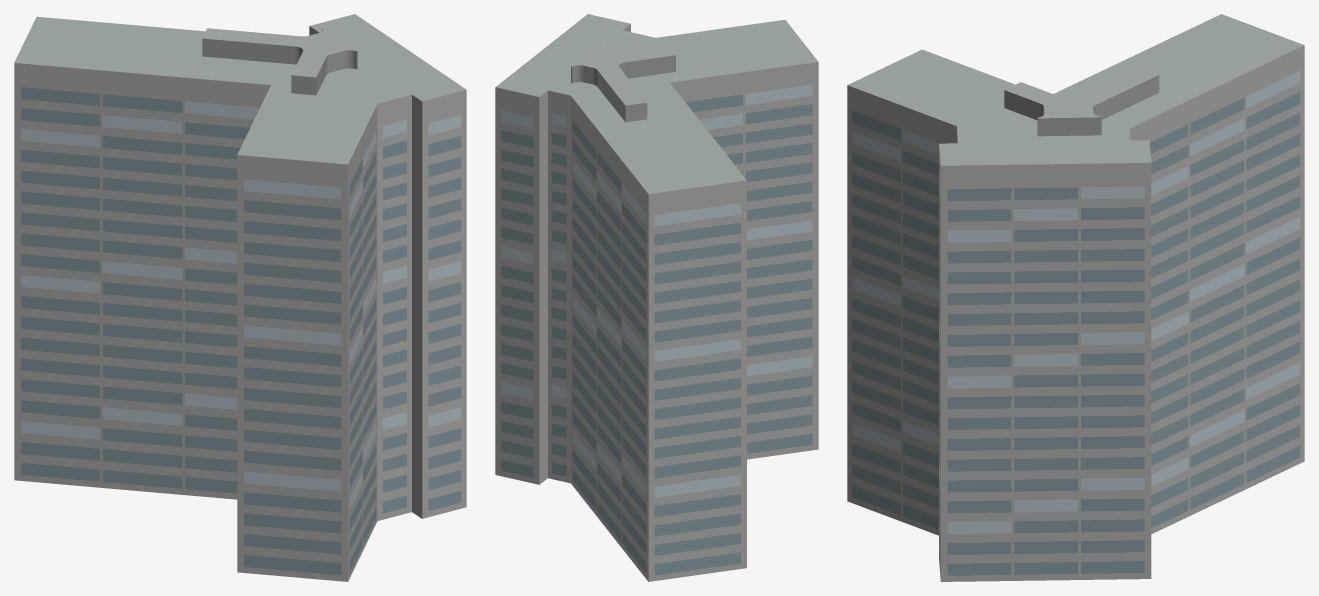
File: fallback-raemian-oksu-riverzen-111.glb
The picture shows the model from 3 angles, left to right: view 1: azimuth 30°, elevation 25°; view 2: azimuth 150°, elevation 25°; view 3: azimuth 270°, elevation 25°; orthographic projection. The views are drawn at different scales.
Visible parts, largest first — view 1: fallback-raemian-oksu-riverzen-111; view 2: fallback-raemian-oksu-riverzen-111; view 3: fallback-raemian-oksu-riverzen-111.
Boxes of the visible parts, box(x1,y1,x2,y2) form: fallback-raemian-oksu-riverzen-111: box(14, 14, 466, 581); fallback-raemian-oksu-riverzen-111: box(495, 14, 818, 581); fallback-raemian-oksu-riverzen-111: box(847, 14, 1304, 581).
Bounding box in the file's own units: 43.5 × 58 × 55.37.
